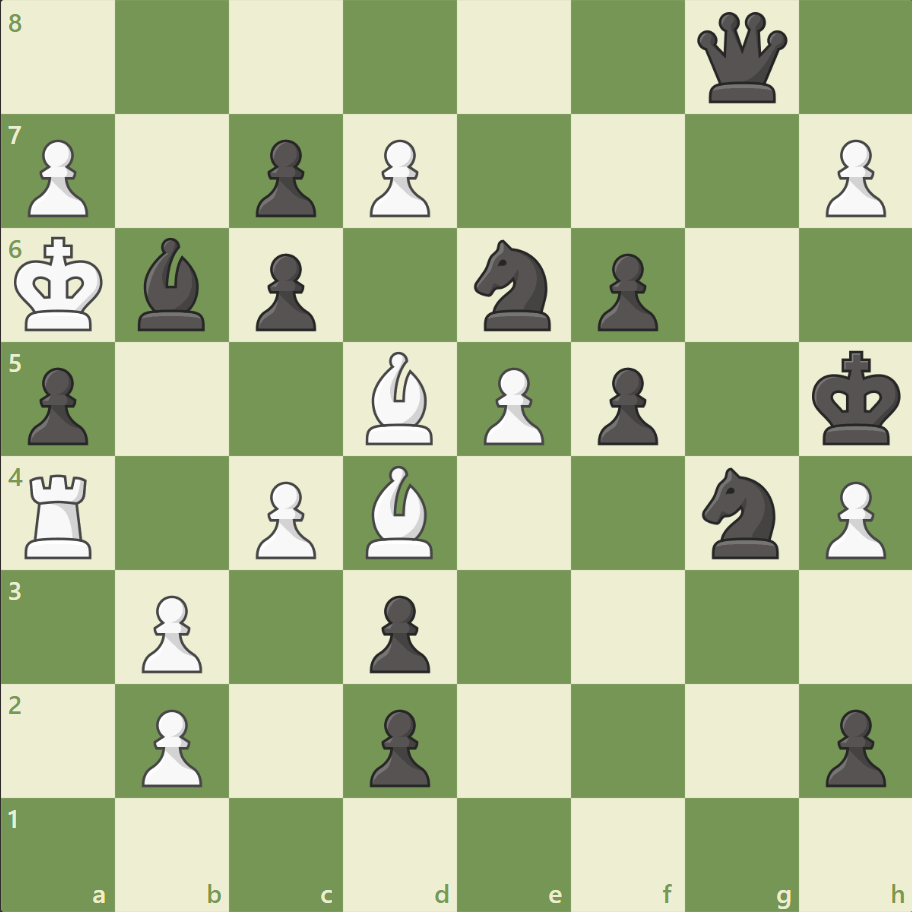B: (358, 460, 442, 563), (358, 347, 442, 449)
K: (11, 231, 111, 339)
P: (20, 132, 95, 223), (474, 359, 549, 450), (247, 473, 322, 564), (133, 586, 208, 677), (133, 700, 208, 791), (361, 132, 435, 223), (815, 132, 889, 223), (815, 473, 889, 564)
R: (19, 466, 102, 563)
b: (131, 233, 215, 336)
k: (806, 344, 906, 452)
n: (465, 234, 562, 337), (692, 461, 789, 564)
p: (247, 132, 322, 223), (247, 246, 322, 337), (20, 359, 95, 450), (588, 246, 662, 337), (588, 359, 662, 450), (361, 586, 435, 677), (361, 700, 435, 791), (815, 700, 889, 791)
q: (691, 9, 790, 108)
